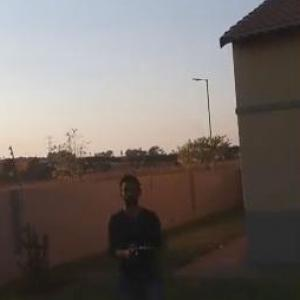follow: (103, 166, 172, 299)
